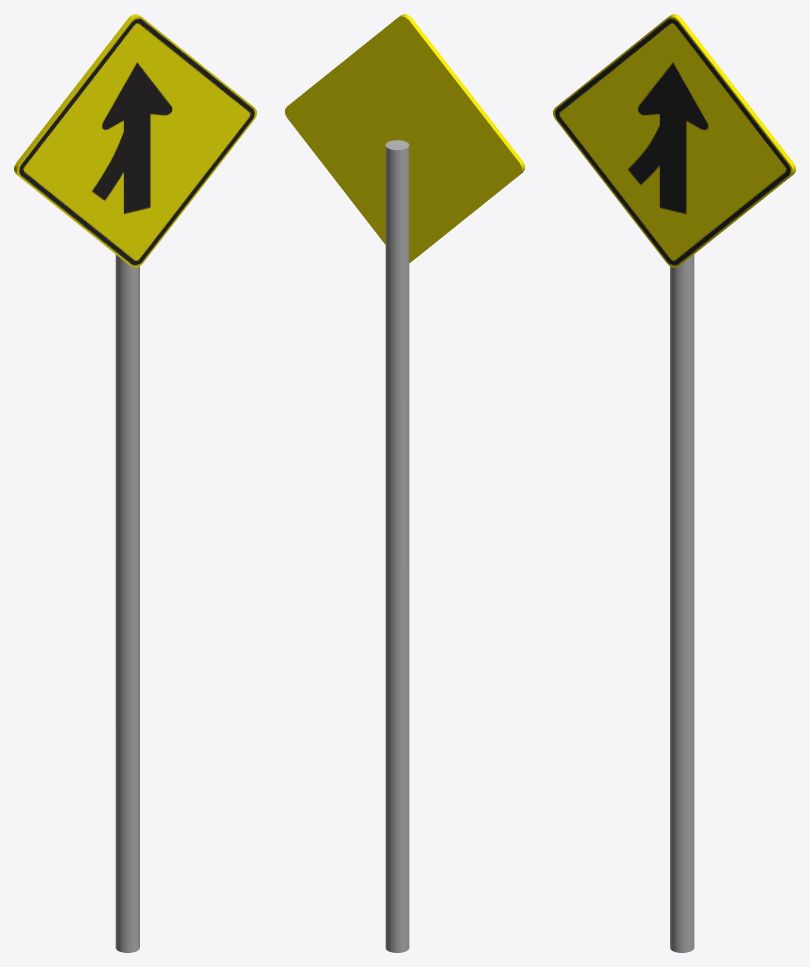
Rendered from merge_sign.fbx.
The picture shows the model from 3 angles, left to right: view 1: azimuth 30°, elevation 25°; view 2: azimuth 150°, elevation 25°; view 3: azimuth 330°, elevation 25°; orthographic projection.
Parts seen in each view (by area): view 1: Plane.001; view 2: Plane.001; view 3: Plane.001.
Boxes of the visible parts, left/top/right/bottom form: Plane.001: left=14, top=14, right=256, bottom=952; Plane.001: left=285, top=14, right=524, bottom=952; Plane.001: left=553, top=14, right=795, bottom=952.
Bounding box in the file's own units: 180 × 672 × 19.83.
